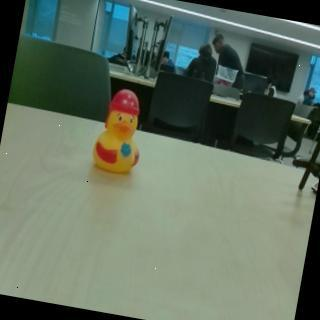duck_specialty: (89, 84, 153, 179)
